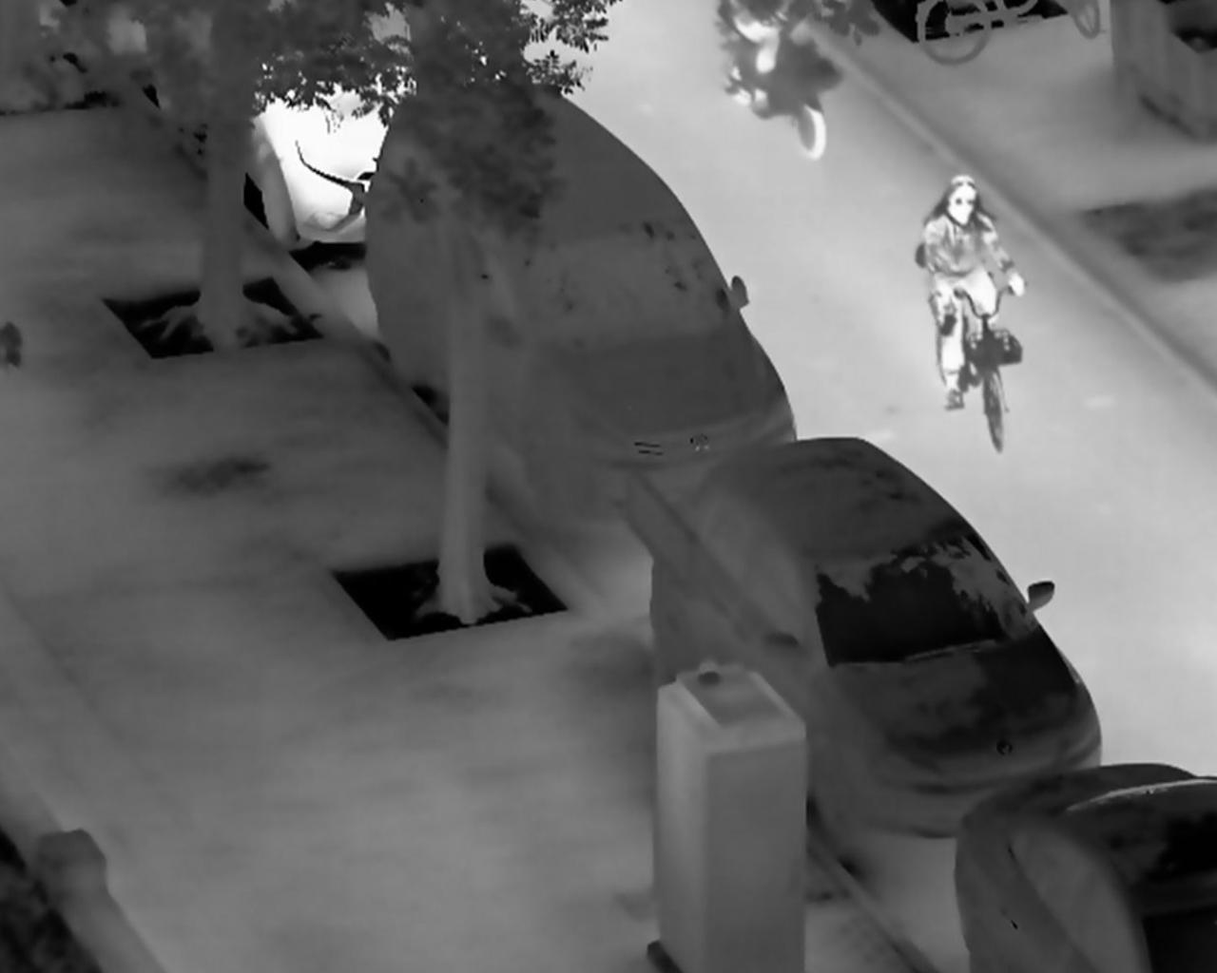person: (913, 169, 1028, 414)
